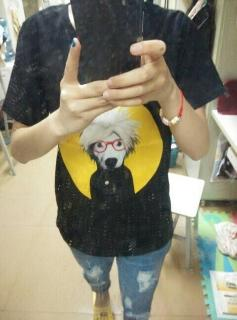short sleeve top: (2, 1, 226, 257)
trousers: (58, 215, 173, 319)
